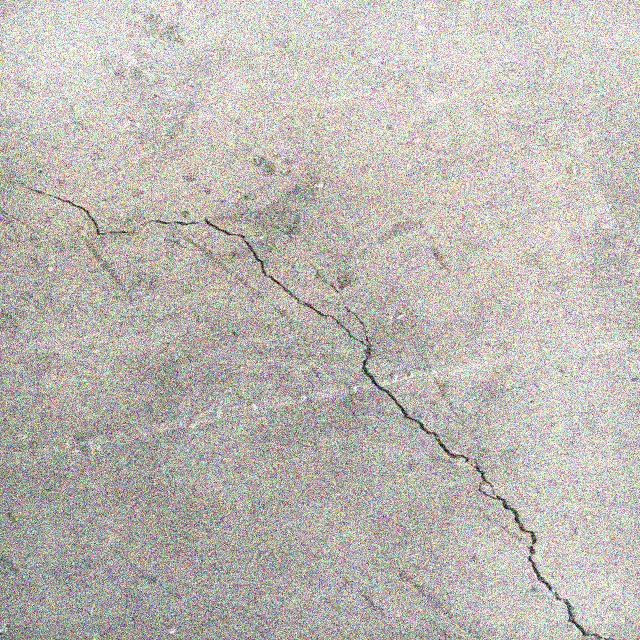SurfaceCrack: (0, 181, 639, 639)
